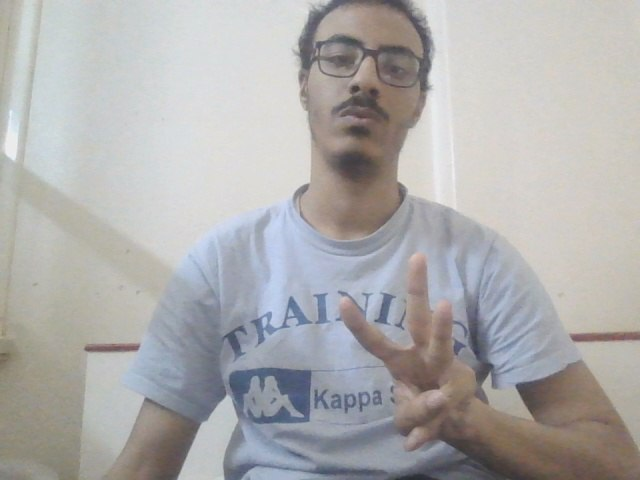Water: (335, 249, 487, 455)
